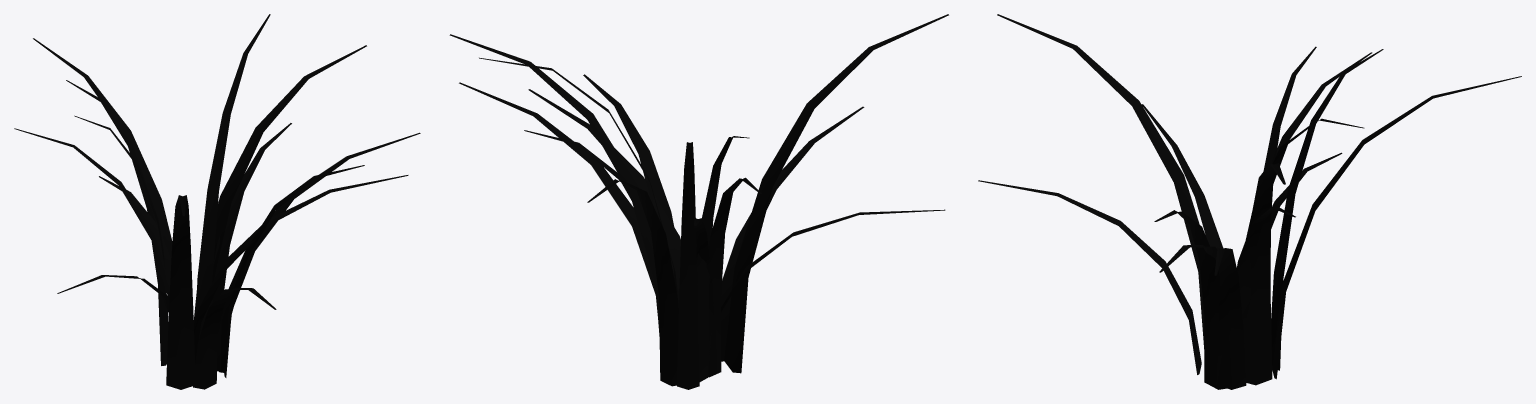
Rendered from grass_tuft_01.glb.
3 renders of one model, left to right at view 1: azimuth 30°, elevation 25°; view 2: azimuth 150°, elevation 25°; view 3: azimuth 270°, elevation 25°, orthographic. The views are drawn at different scales.
Parts seen in each view (by area): view 1: grass_tuft_01; view 2: grass_tuft_01; view 3: grass_tuft_01.
Boxes of the visible parts, x1,y1,x2,y2 form: grass_tuft_01: (14,14,420,389); grass_tuft_01: (449,14,948,389); grass_tuft_01: (978,14,1521,389).
Size of the model in its own units: 0.5972 by 0.4155 by 0.635.
Materials: 1 (1 with a texture image).
